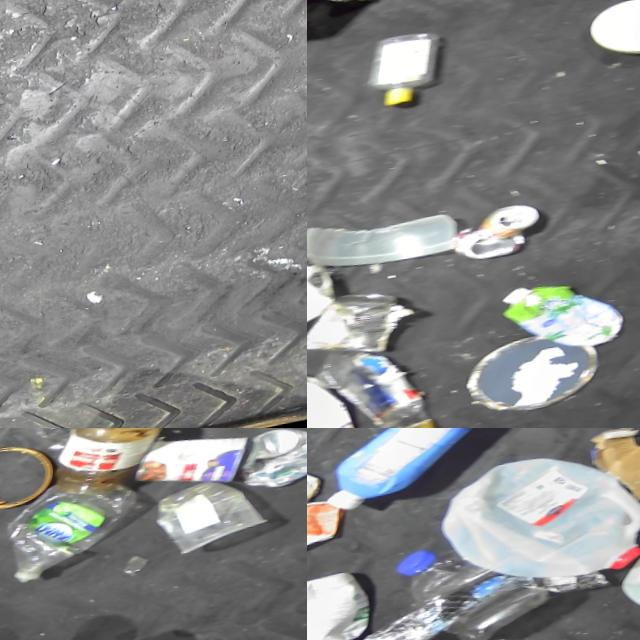can: (128, 428, 252, 505), (307, 289, 407, 371), (449, 206, 545, 274), (235, 428, 307, 499), (307, 254, 340, 349), (307, 0, 396, 19)
milk_jug: (432, 440, 640, 611), (307, 361, 358, 428)
non_white_jug: (311, 428, 523, 518), (496, 277, 624, 373)
plastic_bottle: (389, 530, 550, 640), (2, 477, 142, 588), (312, 337, 442, 428), (357, 32, 451, 120)
